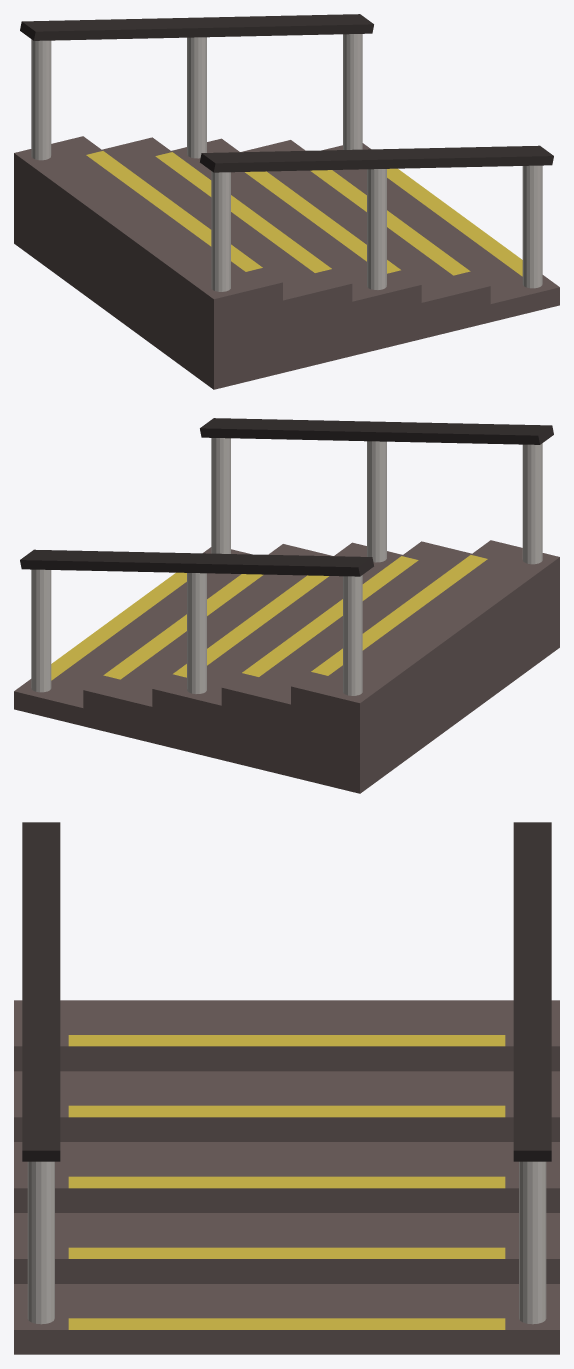
The model's file is Escaliers.fbx.
The picture shows the model from 3 angles, top to bottom: view 1: azimuth 30°, elevation 25°; view 2: azimuth 150°, elevation 25°; view 3: azimuth 270°, elevation 25°; orthographic projection. The views are drawn at different scales.
Parts seen in each view (by area): view 1: Escalier; view 2: Escalier; view 3: Escalier.
Part boxes in pixels (x1,y1,x2,y2): Escalier: (14, 14, 559, 389); Escalier: (14, 418, 559, 793); Escalier: (14, 822, 559, 1354).
Size of the model in its own units: 200 by 123 by 200.
